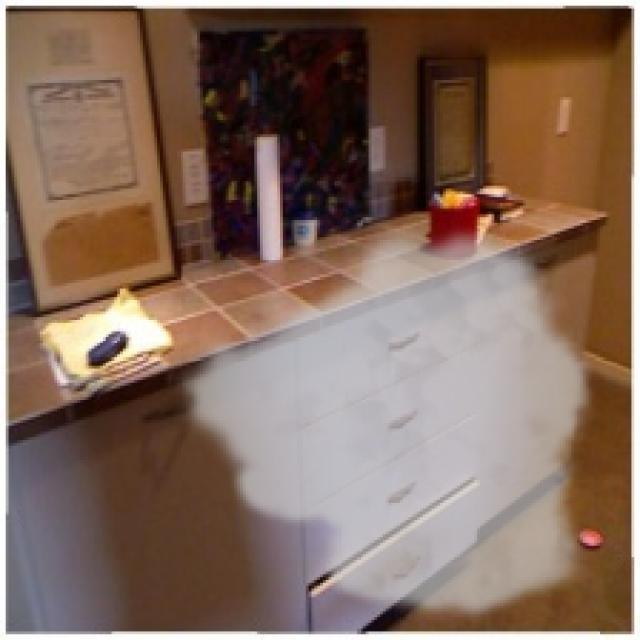Smoke: (172, 217, 597, 623)
